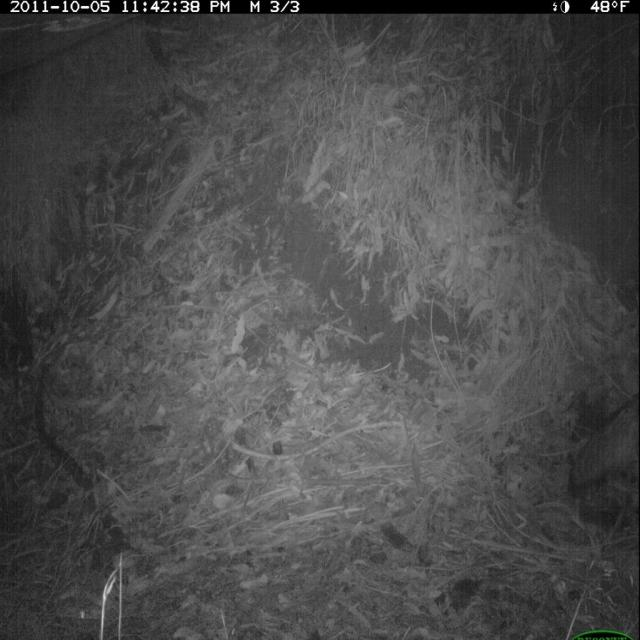coyote: (563, 384, 640, 518)
